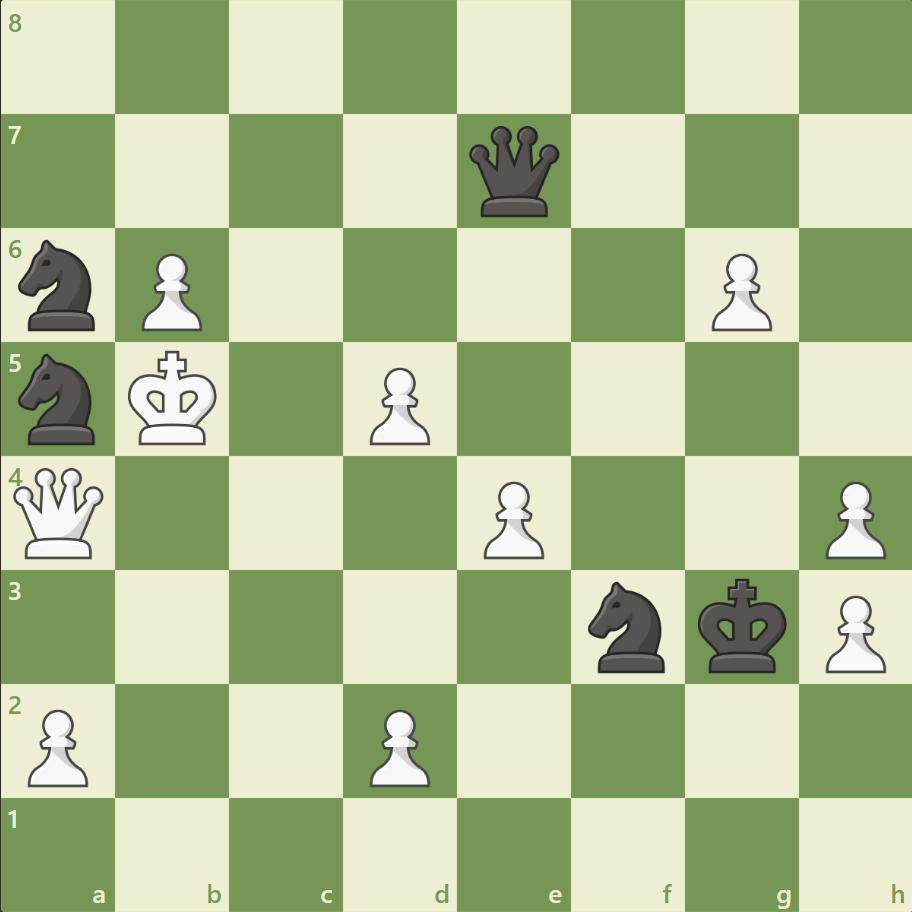K: (124, 344, 224, 452)
P: (133, 246, 208, 337), (701, 246, 776, 337), (474, 473, 549, 564), (20, 700, 95, 791), (361, 359, 435, 450), (815, 473, 889, 564), (815, 586, 889, 677), (361, 700, 435, 791)
Q: (10, 463, 109, 562)
k: (692, 571, 792, 679)
n: (11, 234, 108, 337), (11, 348, 108, 450), (579, 575, 676, 677)
q: (464, 122, 563, 222)
